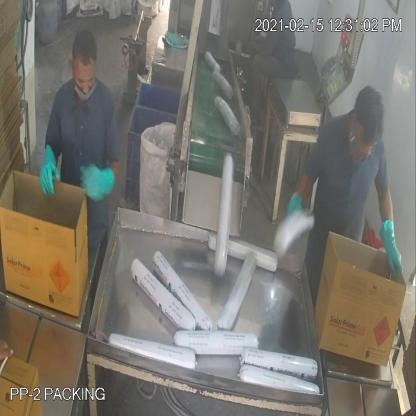glove: (372, 200, 407, 282), (30, 127, 64, 205), (74, 158, 118, 203)
